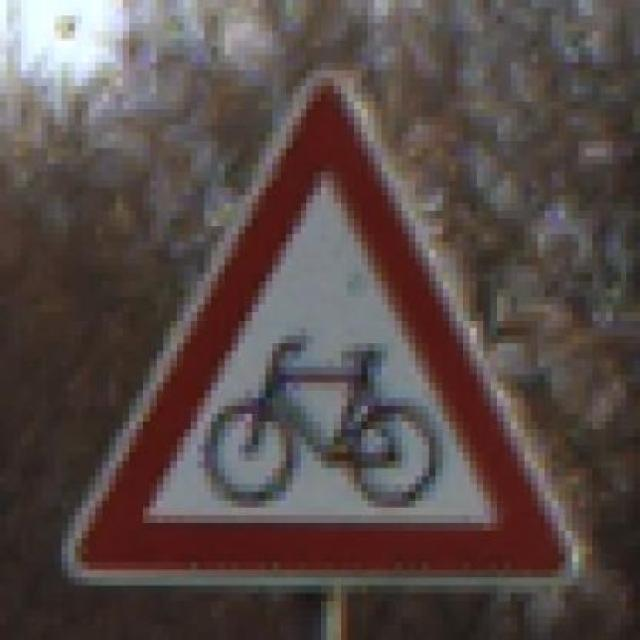CYCLE ROUTE AHEAD WARNING: (68, 54, 586, 586)
